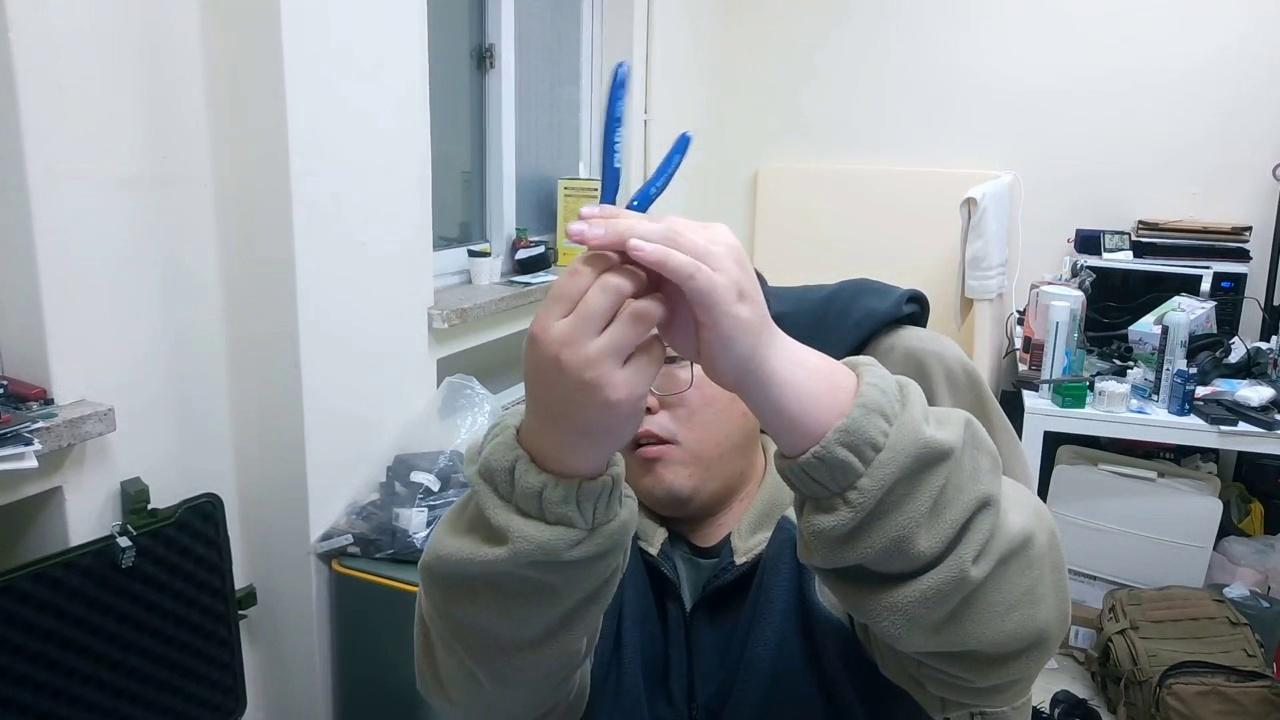blue_pliers: (624, 129, 694, 215)
